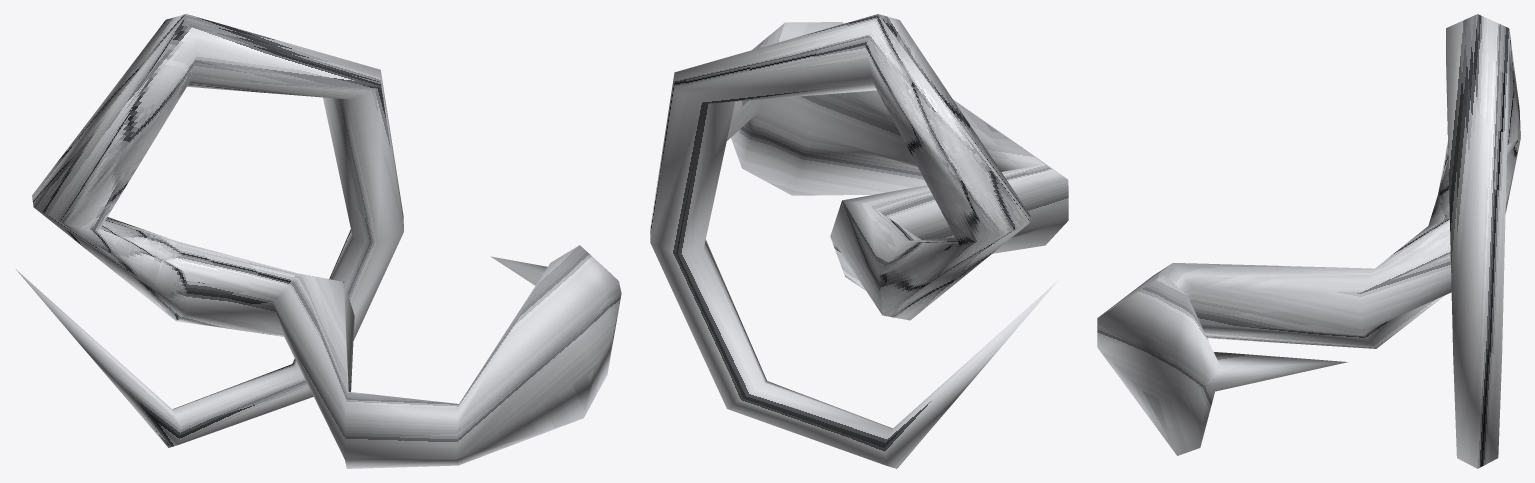
Rendered from snake_000005.obj.
3 views of the same model, side by side, from view 1: azimuth 30°, elevation 25°; view 2: azimuth 150°, elevation 25°; view 3: azimuth 270°, elevation 25° (orthographic). The views are drawn at different scales.
Parts seen in each view (by area): view 1: Cylinder; view 2: Cylinder; view 3: Cylinder.
Part boxes in pixels (x1,y1,x2,y2): Cylinder: (15, 14, 621, 468); Cylinder: (650, 14, 1068, 468); Cylinder: (1097, 14, 1520, 468).
Size of the model in its own units: 2.67 by 2.36 by 2.21.
